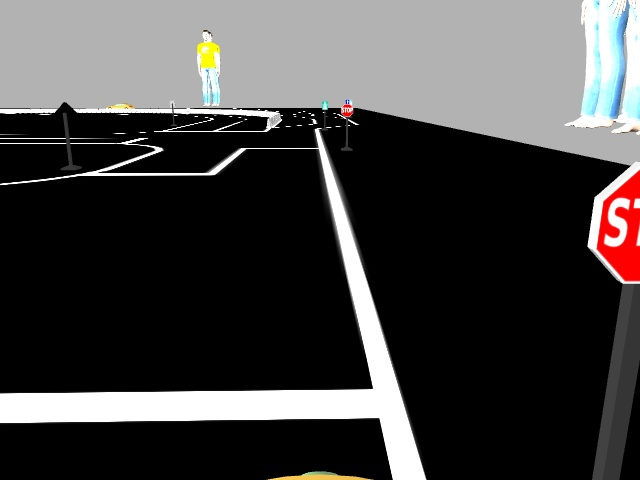Stop: (585, 153, 639, 286)
